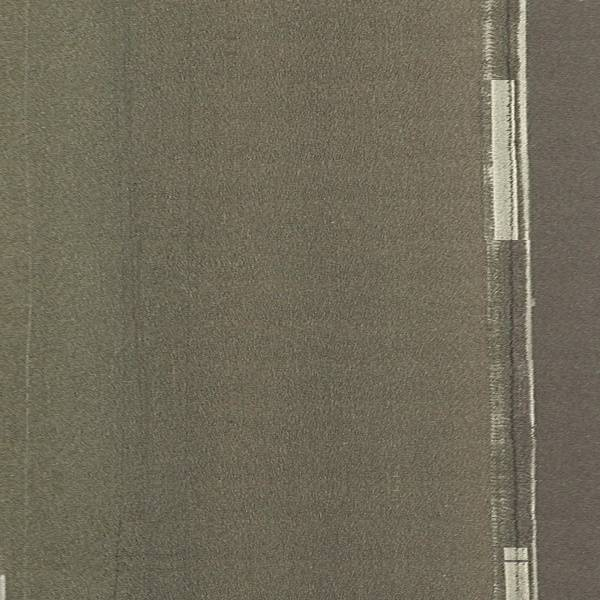road_damage: (501, 2, 528, 571), (104, 513, 128, 600)
